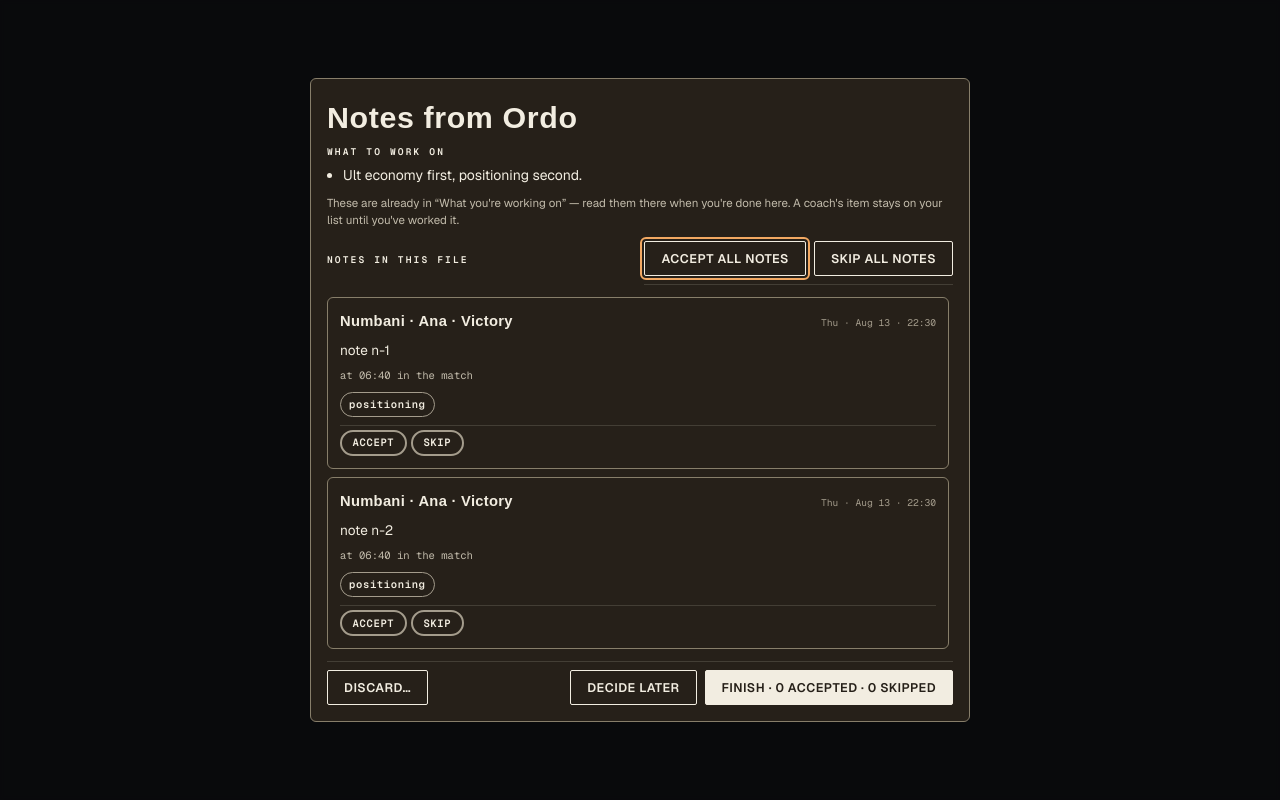
Scenario: CoachReturnSheet › stands the armed confirm down once the last note is decided
Click the button "Finish · 0 accepted · 0 skipped": (829, 688) [705, 670, 953, 705]
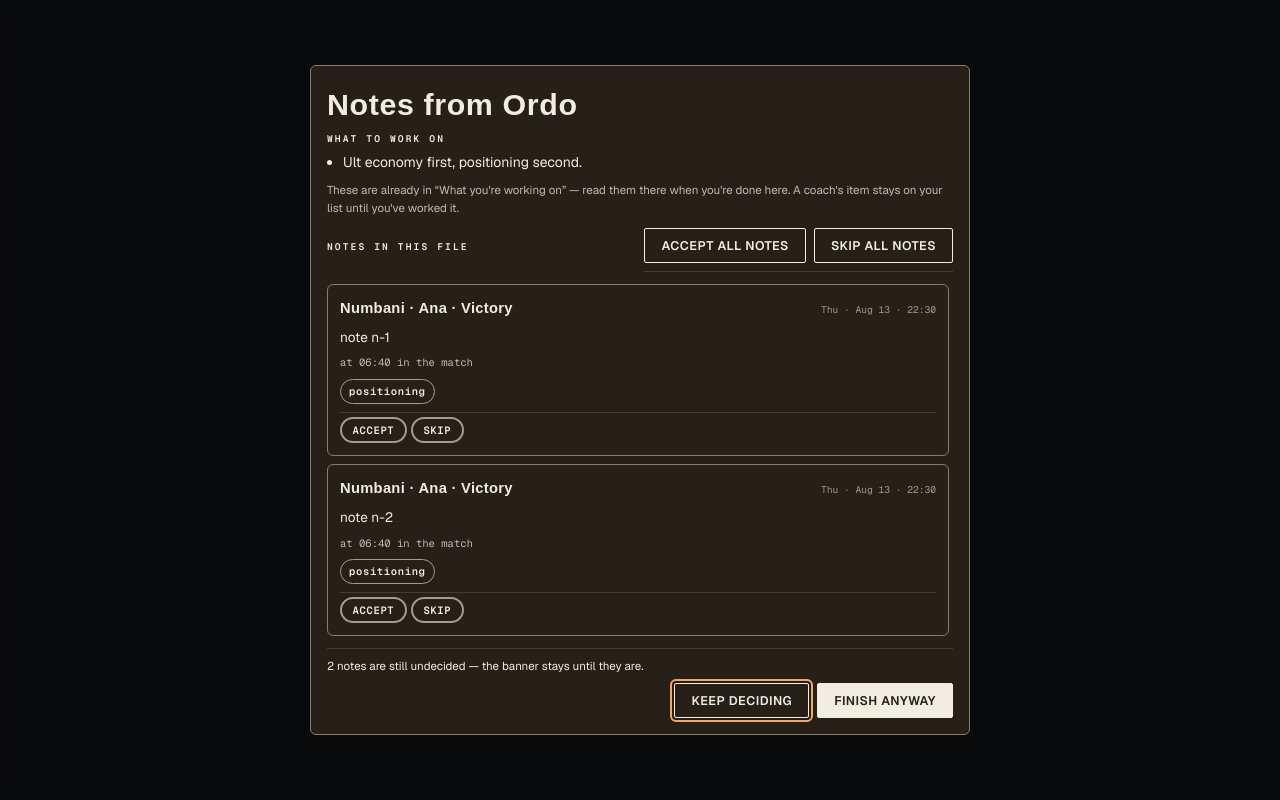
Now the text "2 notes are still undecided — the banner stays until they are." is shown, box [327, 658, 644, 673]
Click the radio button labelled "Accept" below "note n-1": (373, 430) [340, 417, 407, 443]
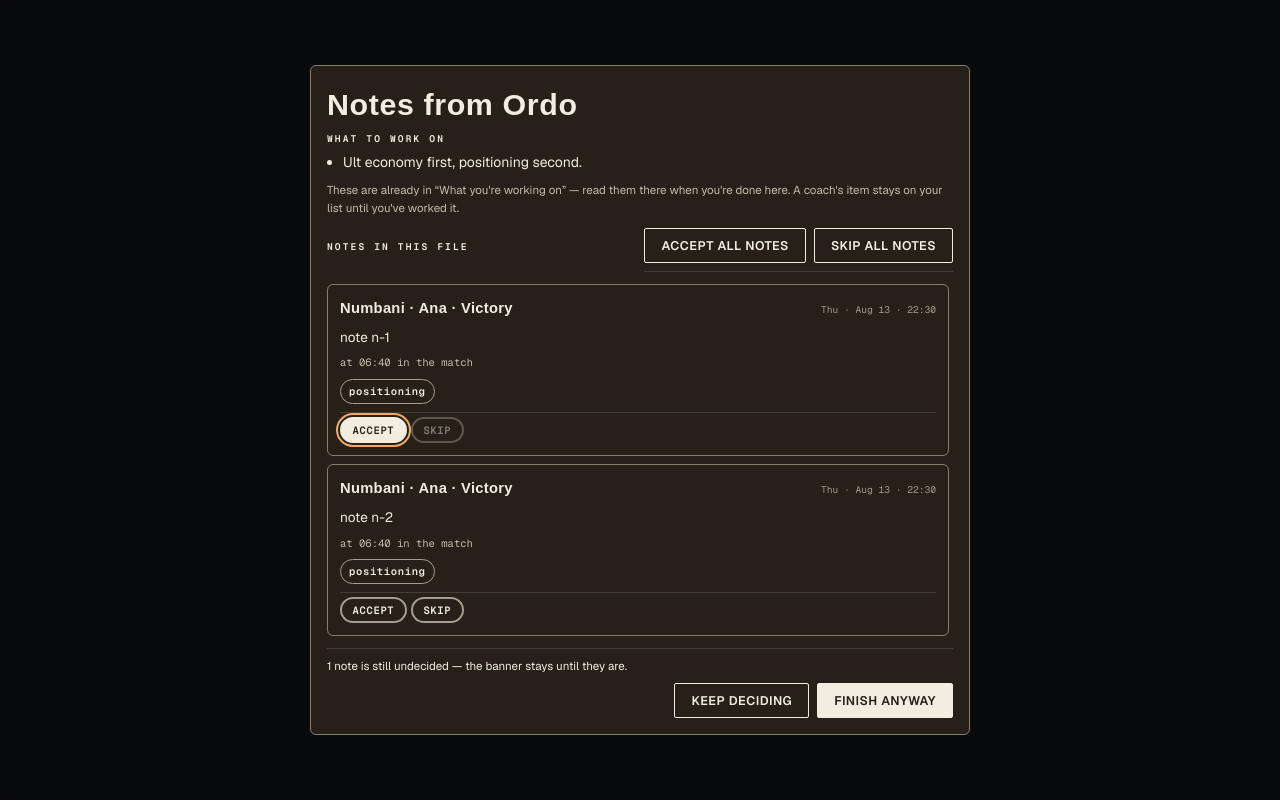
Click the radio button labelled "Skip" below "note n-2": (437, 610) [411, 597, 464, 623]
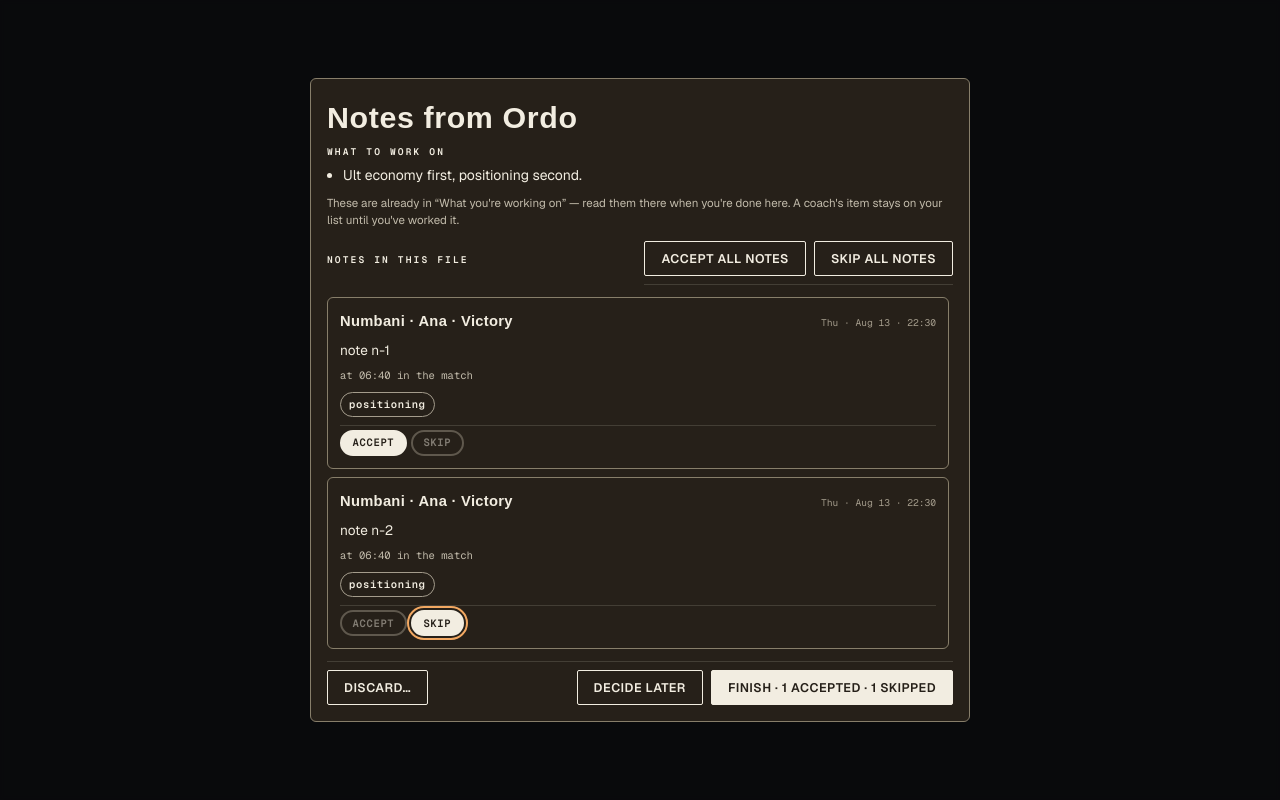
Now the text "1 note is still undecided — the banner stays until they are." is gone
Now the button "Finish · 1 accepted · 1 skipped" is shown, box [711, 670, 953, 705]
